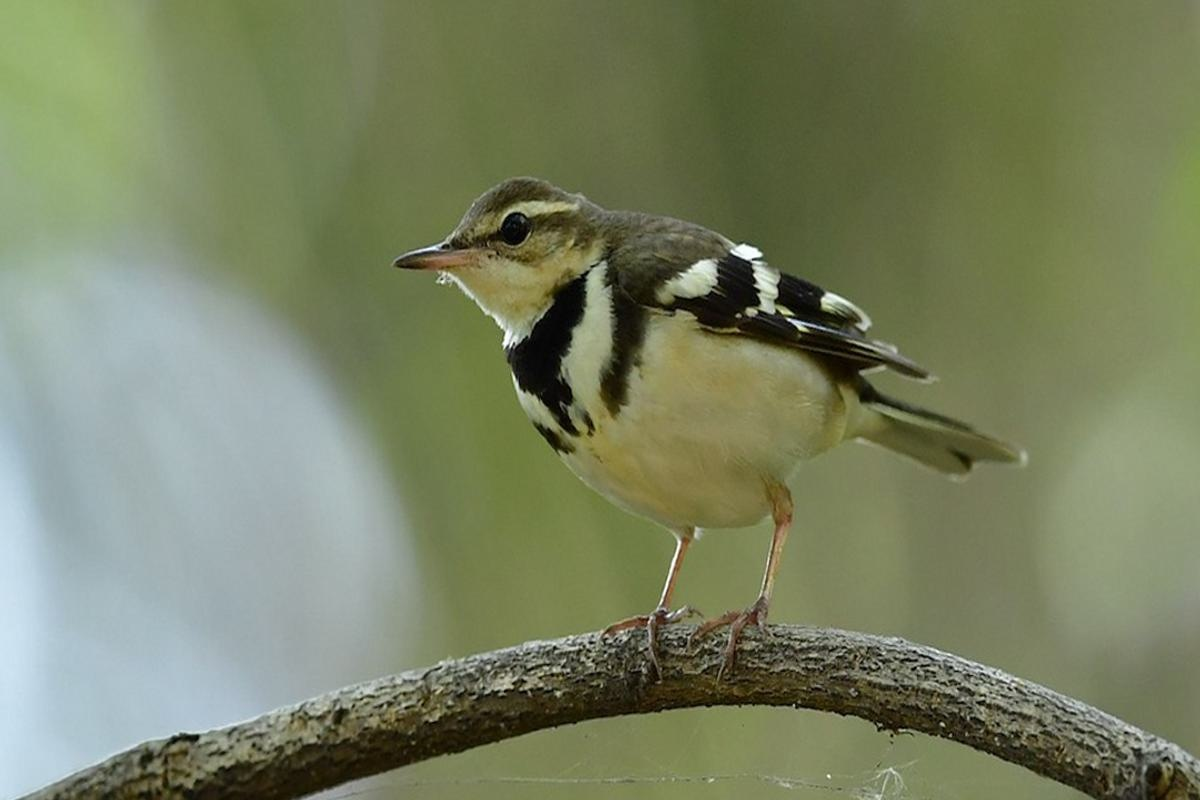wagtail: (398, 160, 911, 652)
